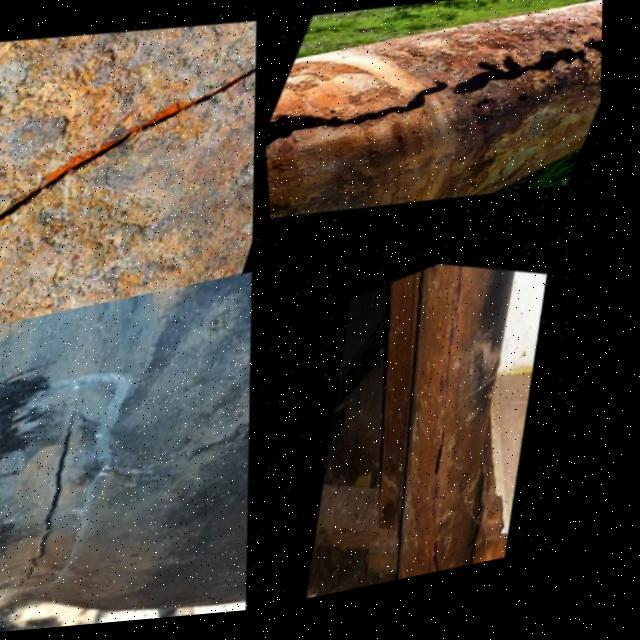crack: (1, 65, 260, 228), (24, 390, 98, 586), (444, 267, 480, 581)
hole: (339, 70, 459, 149), (436, 46, 544, 121), (260, 100, 346, 167), (518, 46, 601, 101), (575, 45, 607, 71), (469, 101, 500, 123), (510, 97, 539, 117), (594, 42, 609, 73), (589, 33, 607, 55), (562, 35, 585, 50), (587, 30, 601, 41), (573, 31, 587, 41)
